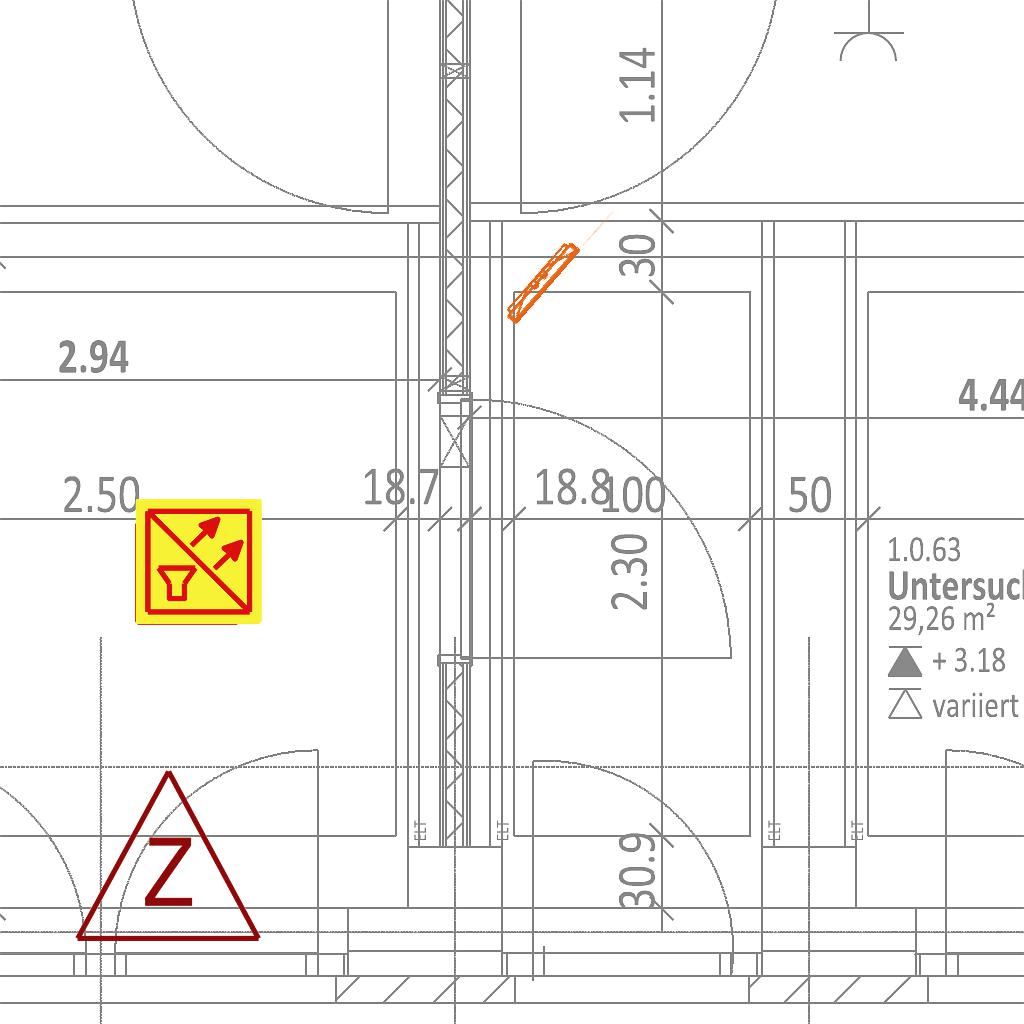OKW_Multisensormelder_(Kombination_optischer_Rauch-Kahlenmonoxid_Waerme-Melder): (133, 496, 265, 628)
Sicherheitsleuchte_Wandeinbau: (495, 194, 620, 331)
Zimmersignalleuchte: (68, 756, 264, 956)
